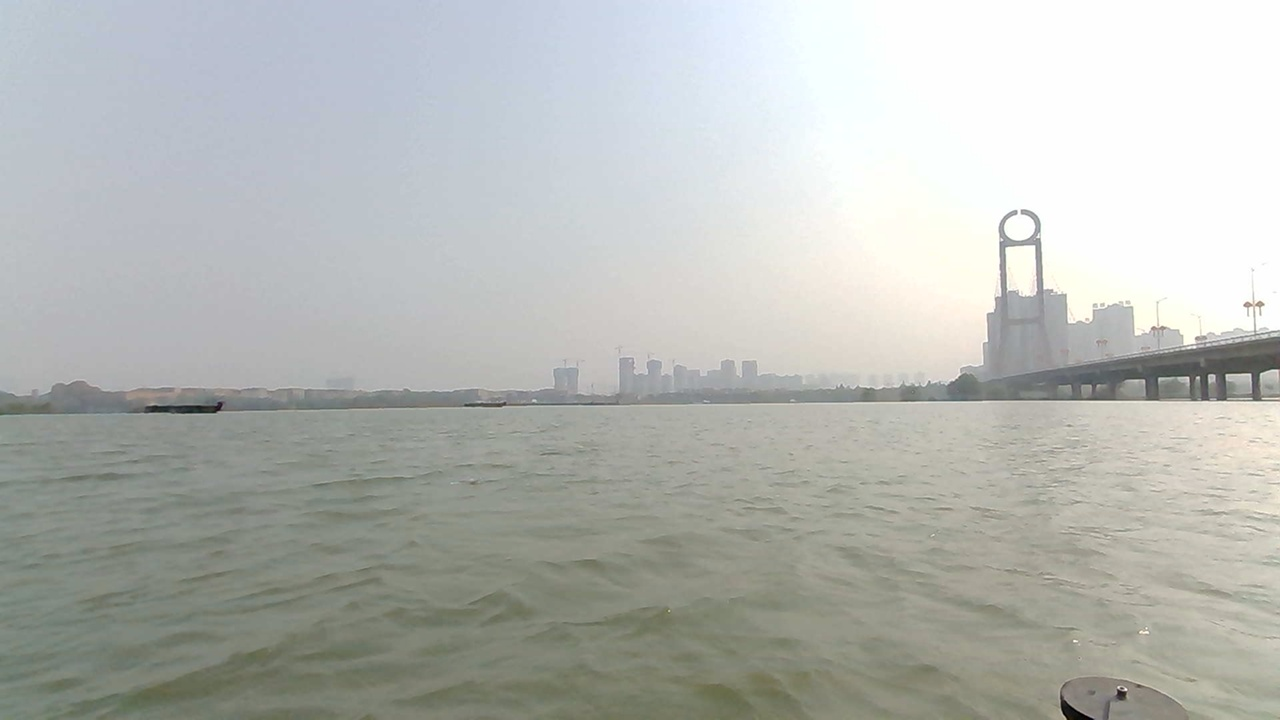bottle: (455, 471, 500, 495)
